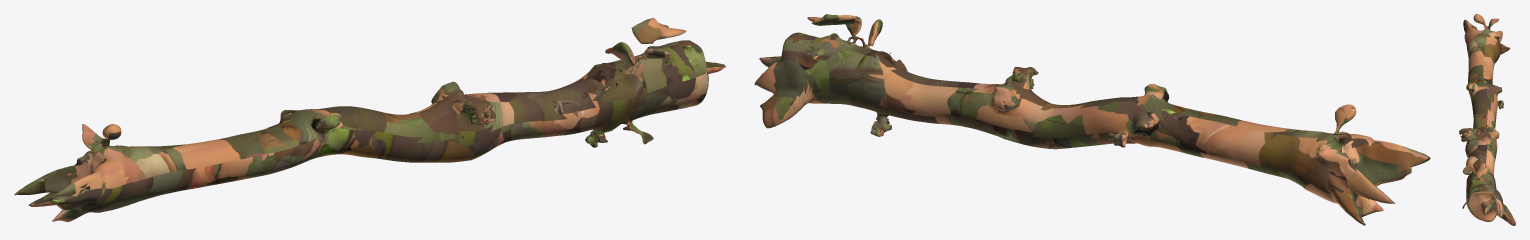
The model's file is Stick.fbx.
The picture shows the model from 3 angles, left to right: view 1: azimuth 30°, elevation 25°; view 2: azimuth 150°, elevation 25°; view 3: azimuth 270°, elevation 25°; orthographic projection. The views are drawn at different scales.
Parts seen in each view (by area): view 1: Mesh0; view 2: Mesh0; view 3: Mesh0.
Part boxes in pixels (bbox=[...]): Mesh0: bbox=[14, 18, 725, 222]; Mesh0: bbox=[754, 14, 1430, 225]; Mesh0: bbox=[1459, 14, 1515, 225].
Size of the model in its own units: 200 by 40.45 by 28.34.
